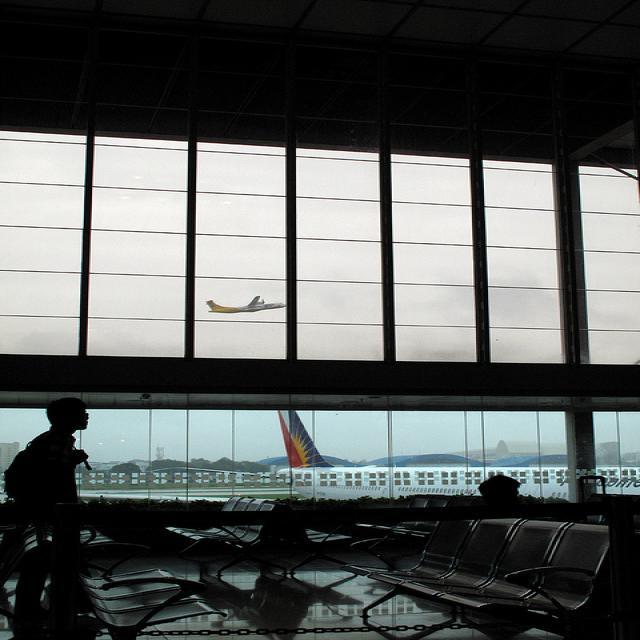airplane: (278, 409, 341, 475), (205, 297, 287, 313)
backpack: (4, 448, 37, 502)
bench: (347, 513, 627, 633), (161, 495, 287, 639), (268, 500, 354, 574), (355, 498, 456, 538), (79, 526, 150, 579)
chair: (483, 523, 612, 640), (42, 557, 227, 632), (441, 521, 569, 616), (177, 500, 289, 583), (338, 519, 476, 578), (437, 518, 519, 590), (173, 496, 256, 535), (87, 587, 205, 613), (71, 566, 178, 587), (245, 498, 274, 511), (406, 495, 434, 508), (221, 495, 243, 511)
person: (4, 398, 91, 504), (463, 474, 524, 518)
suitcase: (584, 492, 635, 542)
